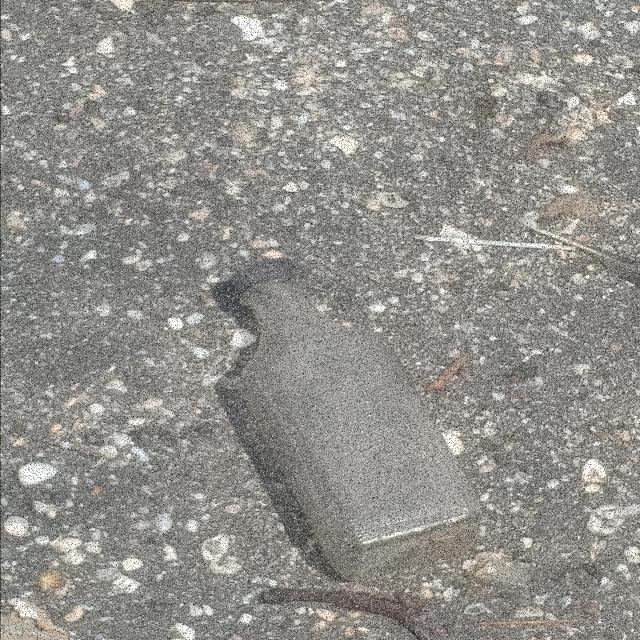glass_waste: (226, 259, 482, 584)
plastic_waste: (413, 234, 577, 252)
